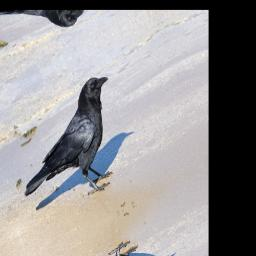Crow: (2, 70, 140, 228)
